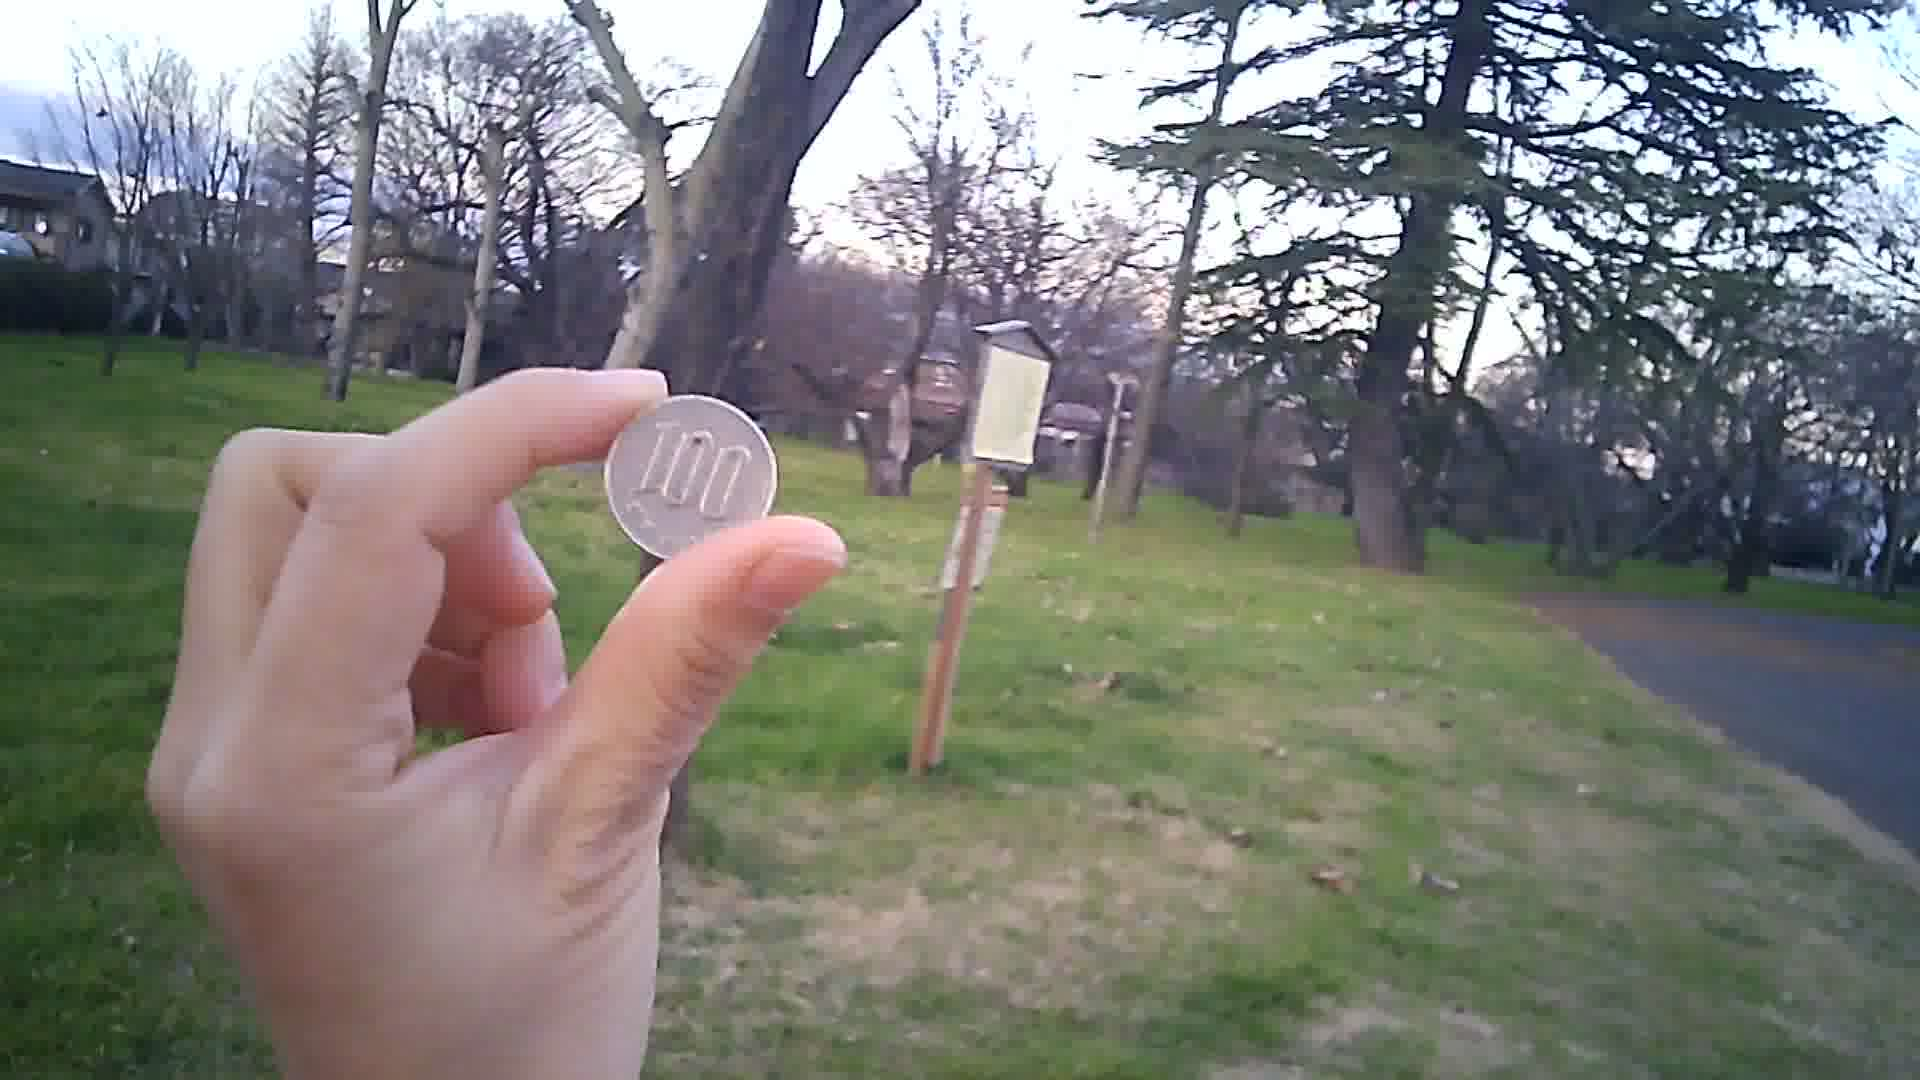100 Yen: (595, 371, 774, 559)
